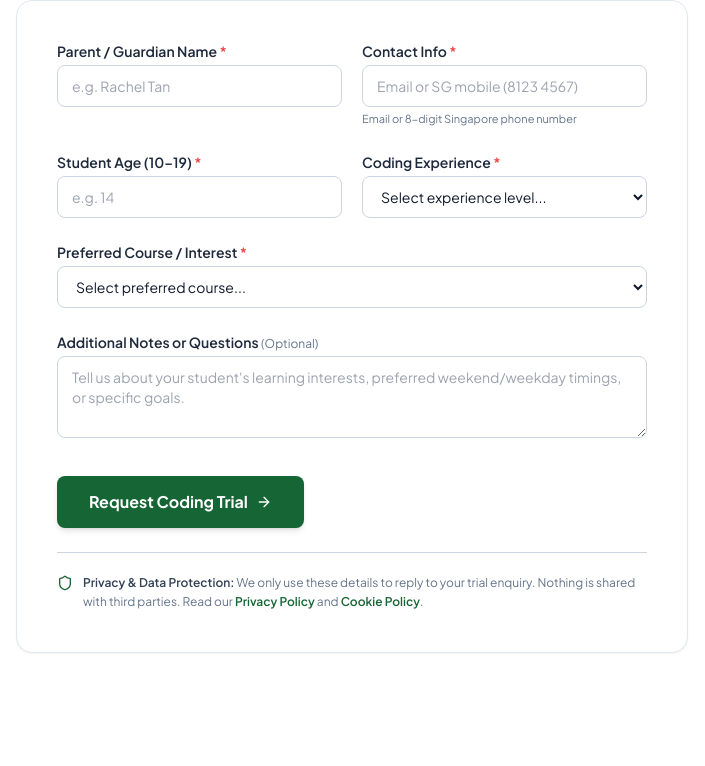
Test: Empirical Challenge: Form Validation Boundaries & Accessibility Stress Harness › 5. Accessibility Oracles: Empty Submission, Focus Transfer & role="alert" › on empty input submission: shifts keyboard focus to first invalid input and renders role="alert" on all invalid fields
Click the button "Request Coding Trial": (180, 502) 57,476 -> 304,528
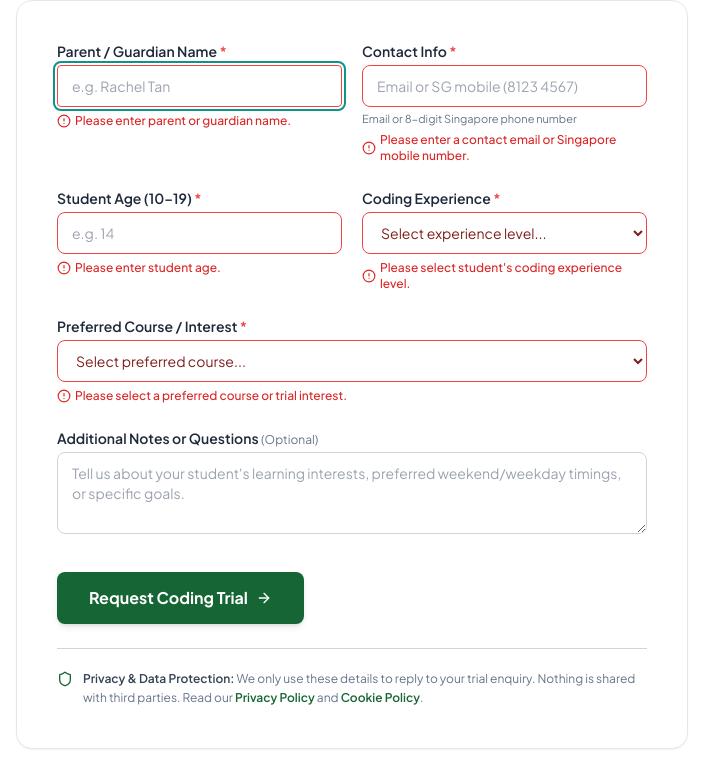
Expected: the number of messages is 5, 57,113 -> 291,128; 362,132 -> 647,164; 57,260 -> 221,274; 362,260 -> 647,292; 57,388 -> 347,402
